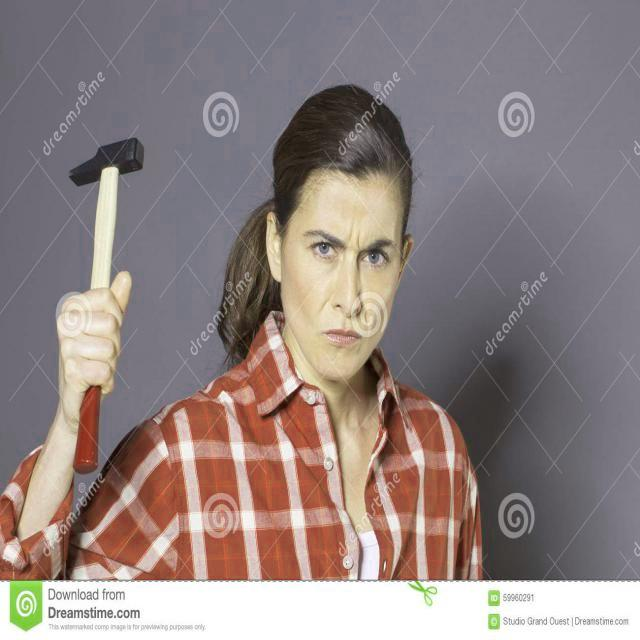hammer: (40, 127, 156, 498)
